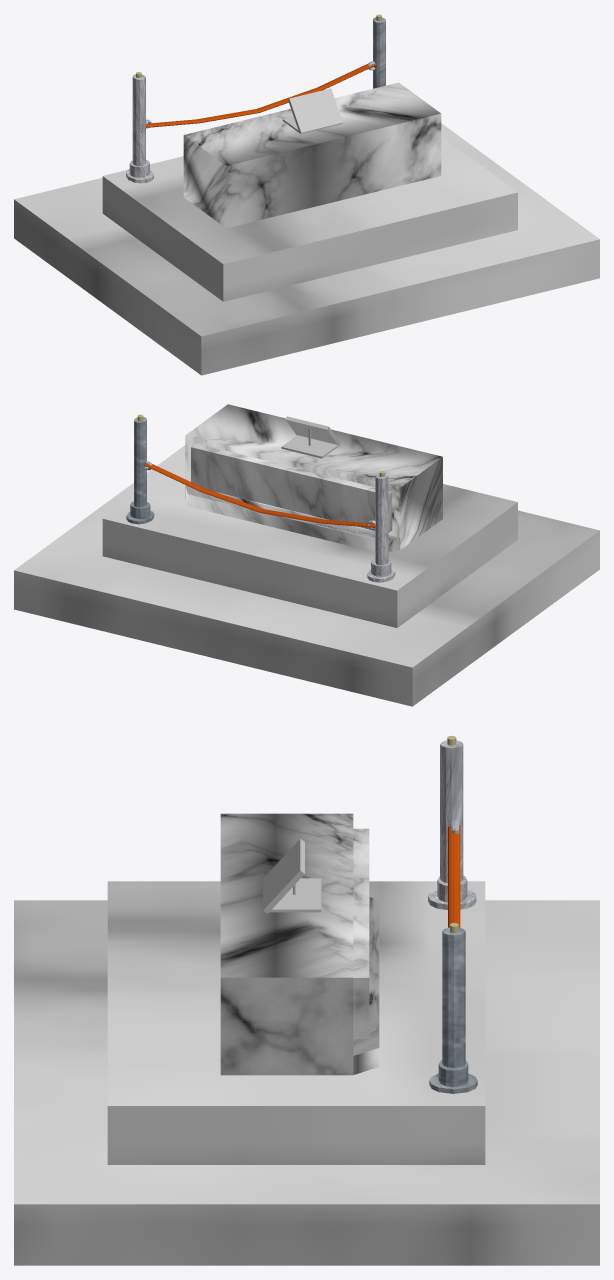
File: altare_chiesa_colorato.fbx
3 renders of one model, top to bottom at view 1: azimuth 30°, elevation 25°; view 2: azimuth 150°, elevation 25°; view 3: azimuth 270°, elevation 25°, orthographic. The views are drawn at different scales.
Visible parts, largest first — view 1: Cube, Cube_1, Cube_3, Cylinder_3, Cylinder_4, Cylinder_1; view 2: Cube, Cube_1, Cube_2, Cylinder_3, Cylinder_4, Cylinder_1, Cube_3, Cube_4, Cylinder_2, Cylinder; view 3: Cube, Cube_1, Cube_2, Cylinder_1, Cylinder_3, Cube_3, Cube_4, Cylinder_4, Cylinder, Cylinder_2.
Boxes of the visible parts, x1,y1,x2,y2 form: Cube: [14, 123, 599, 375]; Cube_1: [183, 82, 441, 228]; Cube_3: [288, 88, 342, 133]; Cylinder_3: [132, 74, 145, 166]; Cylinder_4: [146, 63, 376, 127]; Cylinder_1: [373, 17, 385, 88]; Cube: [14, 445, 599, 706]; Cube_1: [185, 404, 442, 552]; Cube_2: [191, 443, 392, 532]; Cylinder_3: [375, 473, 388, 565]; Cylinder_4: [143, 463, 375, 527]; Cylinder_1: [134, 417, 146, 507]; Cube_3: [285, 416, 340, 445]; Cube_4: [281, 435, 340, 458]; Cylinder_2: [367, 559, 395, 582]; Cylinder: [126, 501, 154, 524]; Cube: [14, 881, 599, 1265]; Cube_1: [220, 813, 379, 1075]; Cube_2: [353, 828, 369, 1038]; Cylinder_1: [442, 927, 465, 1067]; Cylinder_3: [440, 740, 463, 882]; Cube_3: [263, 838, 304, 913]; Cube_4: [269, 878, 321, 912]; Cylinder_4: [448, 825, 460, 927]; Cylinder: [429, 1060, 477, 1093]; Cylinder_2: [428, 875, 476, 909].
Bounding box in the file's own units: 5.42 × 2.37 × 4.41.
